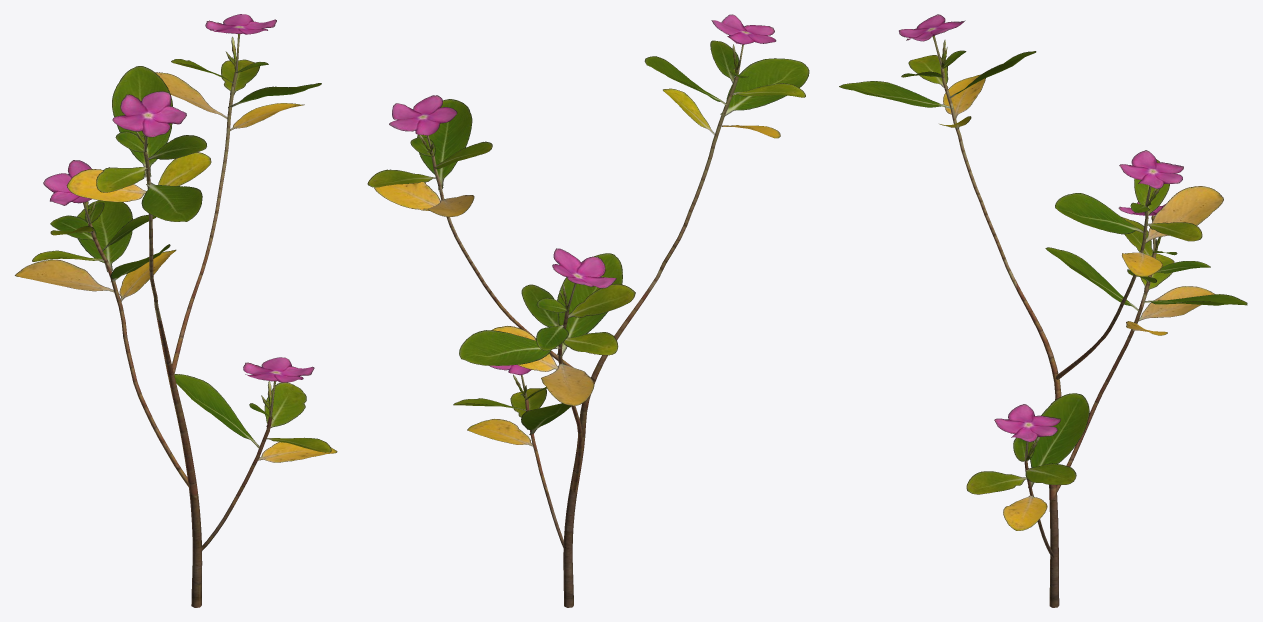
The model's file is periwinkle_plant.glb.
3 views of the same model, side by side, from view 1: azimuth 30°, elevation 25°; view 2: azimuth 150°, elevation 25°; view 3: azimuth 270°, elevation 25° (orthographic). The views are drawn at different scales.
Visible parts, largest first — view 1: periwinkle_plant_04_LOD0; view 2: periwinkle_plant_04_LOD0; view 3: periwinkle_plant_04_LOD0.
Boxes of the visible parts, x1,y1,x2,y2 form: periwinkle_plant_04_LOD0: (15, 14, 337, 607); periwinkle_plant_04_LOD0: (367, 14, 809, 607); periwinkle_plant_04_LOD0: (839, 14, 1247, 607).
Bounding box in the file's own units: 0.1558 × 0.265 × 0.1842.
Materials: 1 (1 with a texture image).
